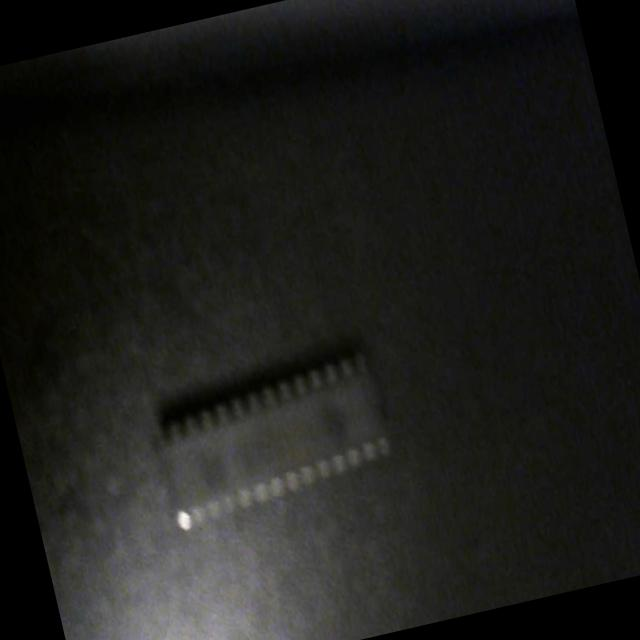atmega: (142, 335, 408, 542)
